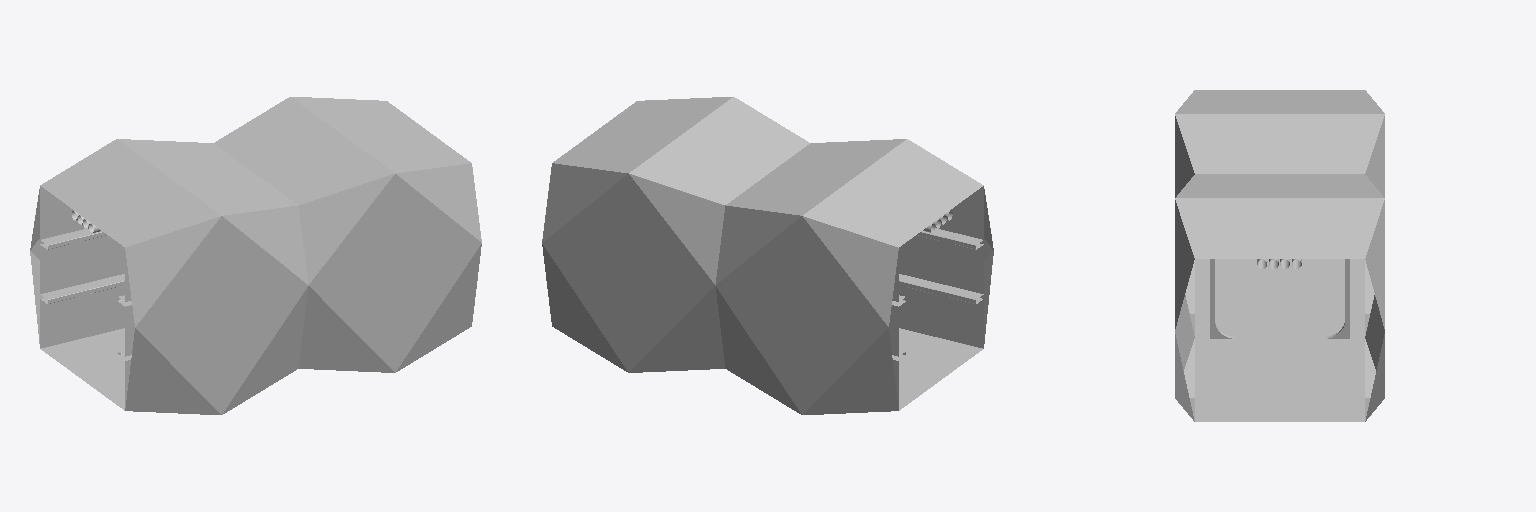
Rendered from Hall1.obj.
3 renders of one model, left to right at view 1: azimuth 30°, elevation 25°; view 2: azimuth 150°, elevation 25°; view 3: azimuth 270°, elevation 25°, orthographic.
Visible parts, largest first — view 1: Cube_Cube.027; view 2: Cube_Cube.027; view 3: Cube_Cube.027.
Boxes of the visible parts, x1=… form: Cube_Cube.027: x1=30, y1=97, x2=481, y2=414; Cube_Cube.027: x1=542, y1=97, x2=993, y2=414; Cube_Cube.027: x1=1175, y1=90, x2=1384, y2=421.
Bounding box in the file's own units: 20 × 11 × 10.5.